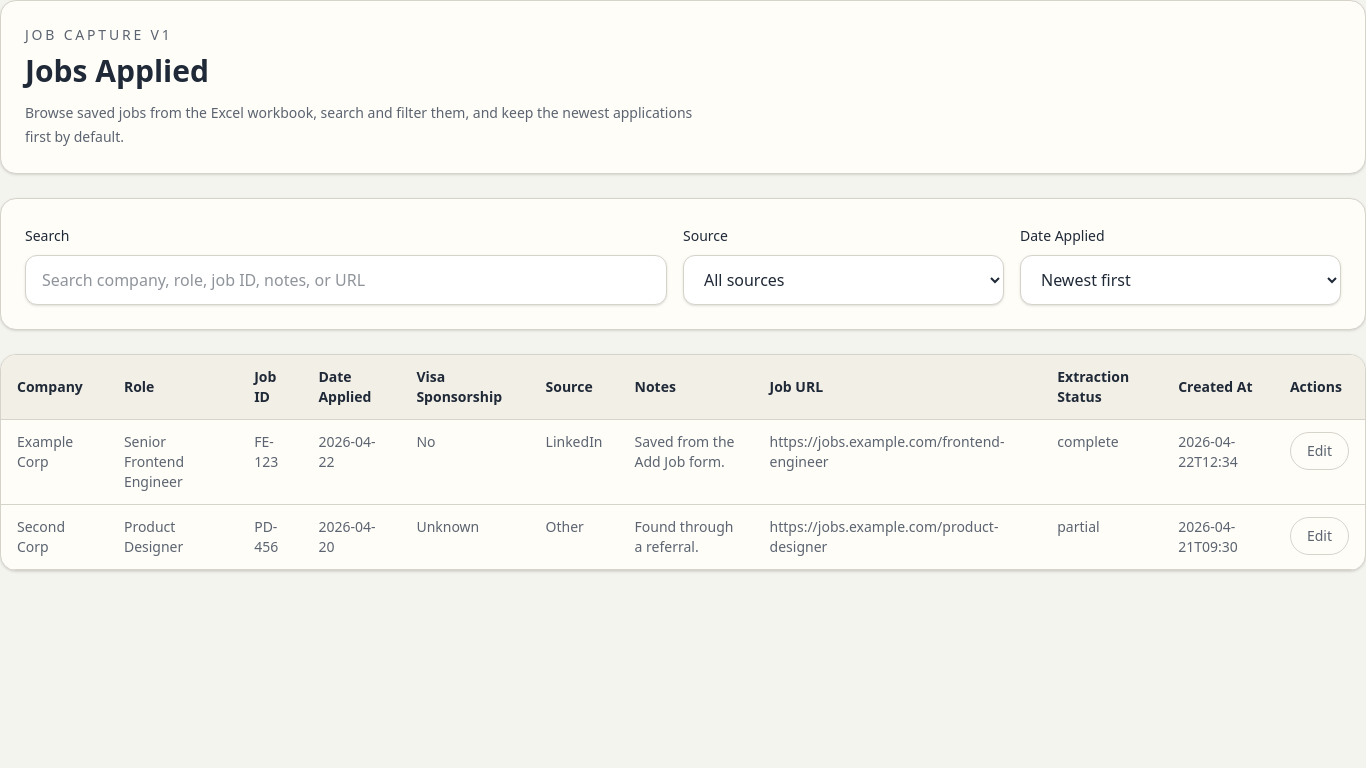
Scenario: JobsPage › enters row edit mode for a single job
Expected: the text "Example Corp" is shown, [1,420,108,504]
Click the button "Edit" in the row of "Example Corp": (1319, 451) [1290,432,1349,470]
(page scrolled)
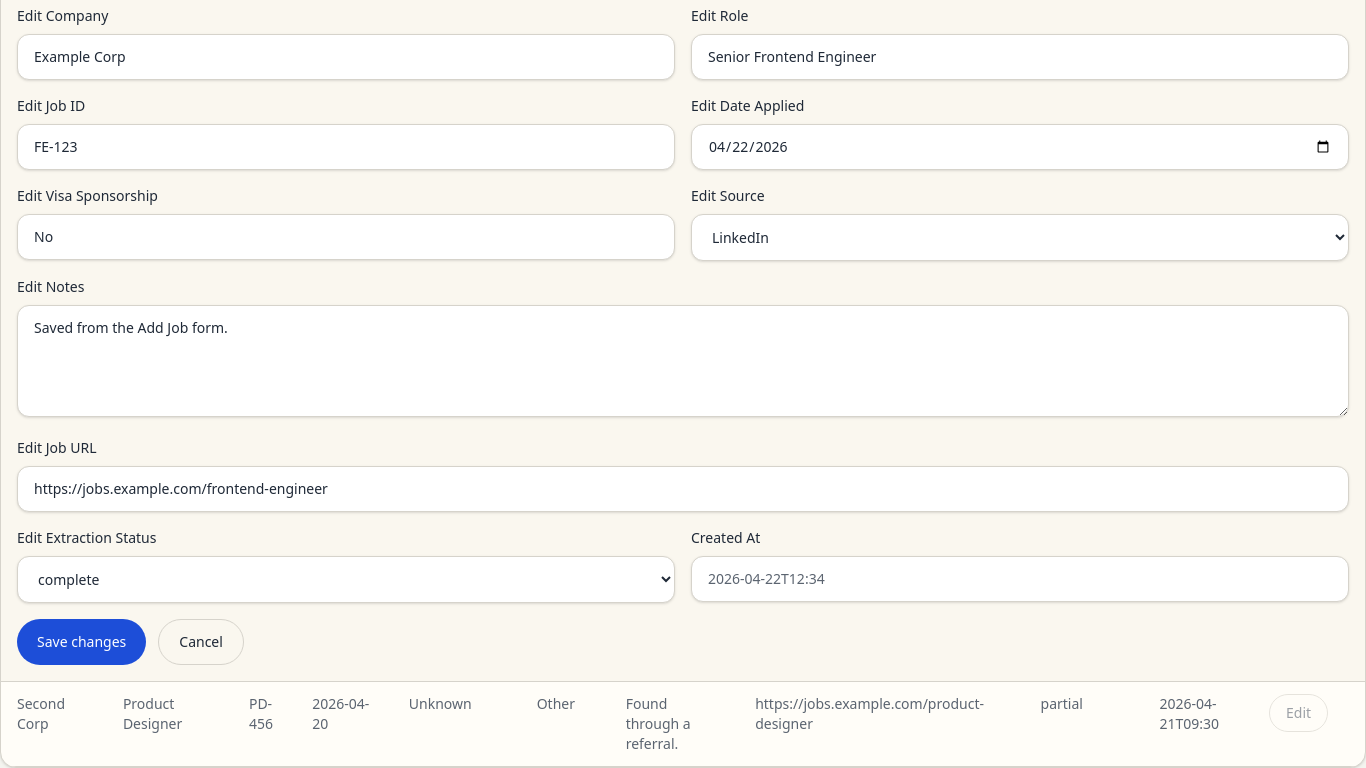
Expected: the field labelled "Edit Company" holds "Example Corp", [17,34,675,80]
Expected: the field labelled "Edit Role" holds "Senior Frontend Engineer", [691,34,1349,80]
Expected: the button "Save changes" is enabled, [17,619,146,665]
